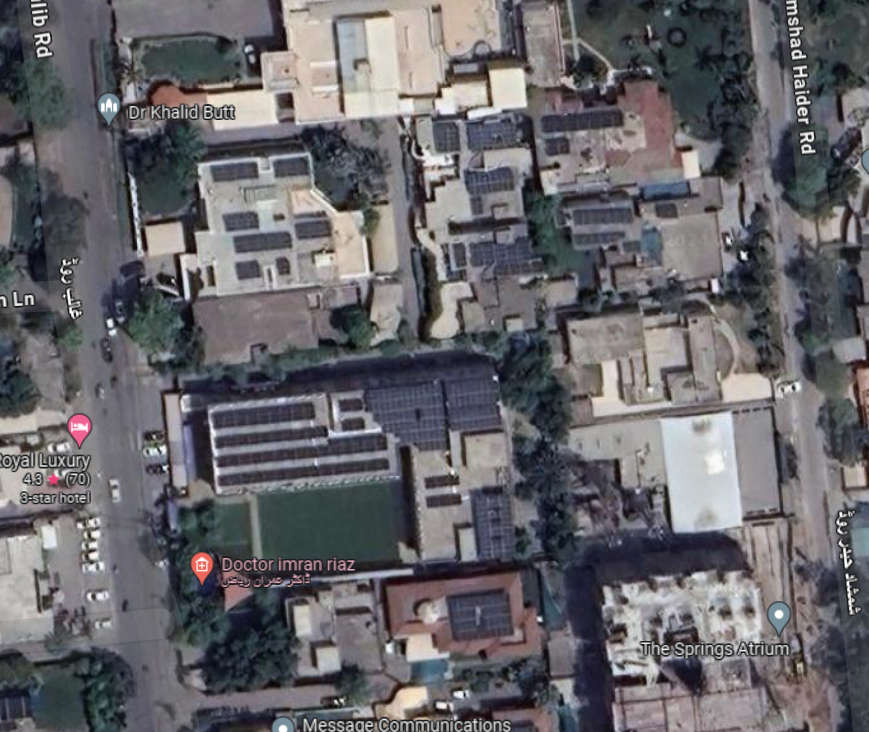solar-panel: (201, 366, 482, 479), (532, 109, 635, 146), (452, 591, 514, 643), (577, 202, 642, 250), (450, 237, 536, 272), (481, 494, 515, 558), (469, 168, 518, 205), (472, 120, 521, 152), (216, 164, 266, 185), (218, 211, 268, 228), (233, 237, 293, 249), (299, 211, 326, 236), (433, 126, 455, 150), (233, 258, 258, 278), (279, 155, 304, 174)
